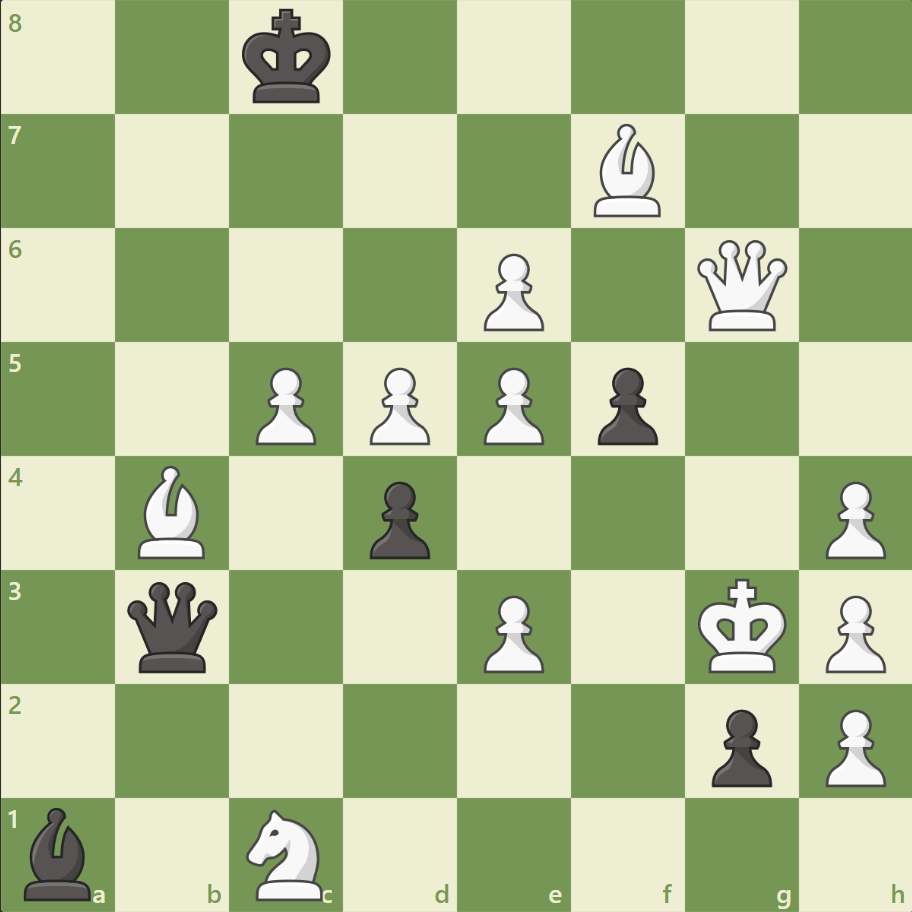B: (131, 460, 215, 563), (585, 120, 669, 222)
K: (692, 571, 792, 679)
N: (238, 802, 335, 904)
P: (474, 246, 549, 337), (247, 359, 322, 450), (474, 359, 549, 450), (474, 586, 549, 677), (361, 359, 435, 450), (815, 473, 889, 564), (815, 586, 889, 677), (815, 700, 889, 791)
Q: (691, 236, 790, 335)
b: (17, 801, 101, 904)
k: (238, 4, 338, 112)
p: (701, 700, 776, 791), (588, 359, 662, 450), (361, 473, 435, 564)
q: (124, 576, 223, 676)
